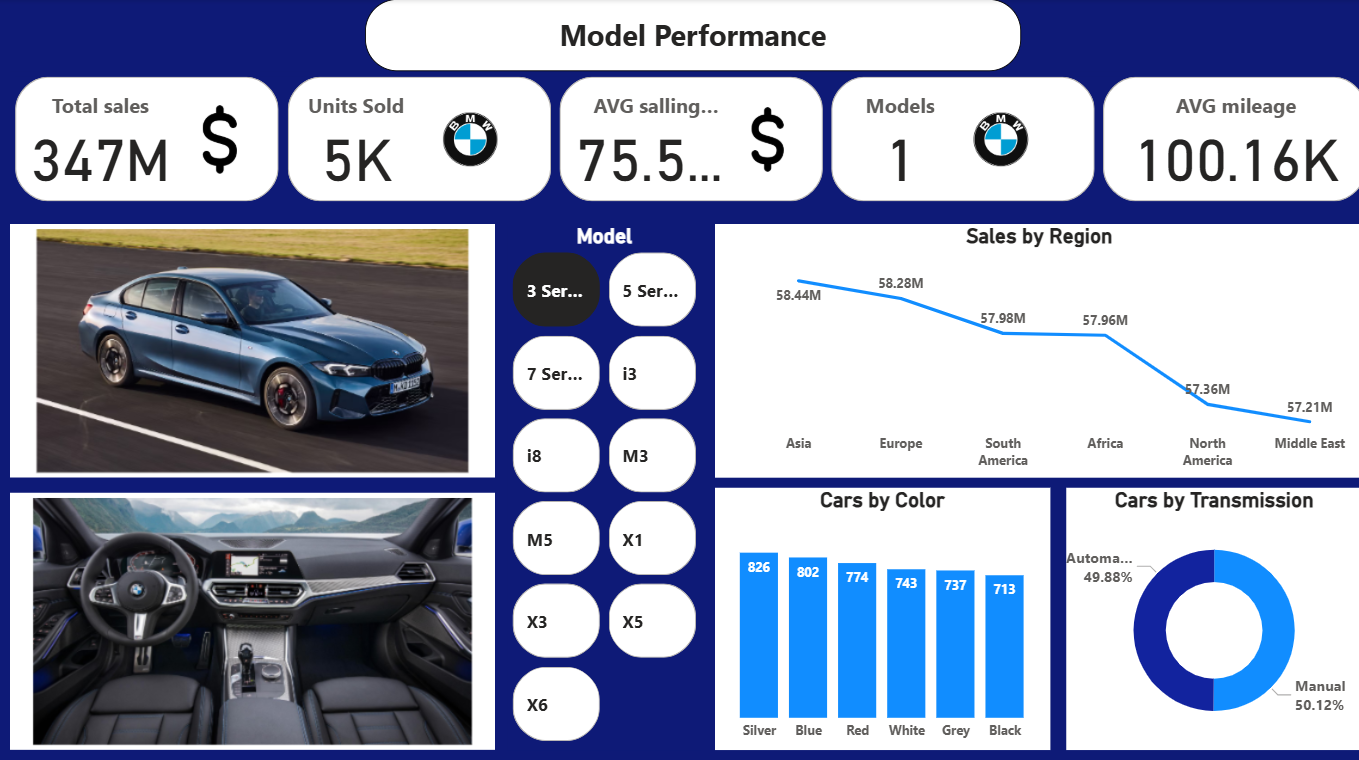

Layout of this report page (visuals, bound fields, positions):
{"tool":"powerbi","page":{"name":"Model Performance ","canvas":[1280,720],"ordinal":1},"visuals":[{"type":"imageDB603108E3FF4EBFB8047F5653368E8C","fields":{"imageUrl":["Table1.URL"],"imageTitle":["Table1.Model "]},"box":[9.3,209.3,451.2,236],"z":0},{"type":"advancedSlicerVisual","fields":{"Values":["Table1.Model "]},"box":[472.1,209.3,180.2,489.5],"z":1000},{"type":"imageDB603108E3FF4EBFB8047F5653368E8C","fields":{"imageTitle":["Table1.Model "],"imageUrl":["Table1.URL 2"]},"box":[9.3,459.3,451.2,239.5],"z":2000},{"type":"cardVisual","fields":{"Data":["BMW sales data (2010-2024) (1).Total sales","BMW sales data (2010-2024) (1).Total Cars","BMW sales data (2010-2024) (1).AVG salling price","BMW sales data (2010-2024) (1).Models","BMW sales data (2010-2024) (1).AVG mileage"]},"box":[9.1,67.4,1270.9,126.7],"z":3000},{"type":"textbox","box":[339.5,0,610.5,67.4],"z":4000},{"type":"lineChart","title":"Sales by Region","fields":{"Y":["BMW sales data (2010-2024) (1).Total sales"],"Category":["BMW sales data (2010-2024) (1).Region"]},"box":[665.1,209.3,603.5,236],"z":5000},{"type":"columnChart","title":"Cars by Color","fields":{"Y":["BMW sales data (2010-2024) (1).Total Cars"],"Category":["BMW sales data (2010-2024) (1).Color"]},"box":[665.1,454.7,311.6,244.2],"z":6000},{"type":"donutChart","title":"Cars by Transmission","fields":{"Y":["BMW sales data (2010-2024) (1).Total Cars"],"Category":["BMW sales data (2010-2024) (1).Transmission"]},"box":[991.9,454.7,275.6,244.2],"z":7000}]}

Visuals, with their boxes in screenshot pixels (x1, y1, x2, y2), scaled from the page's 1280x720 canvas onto the 1359x760 screenshot:
imageDB603108E3FF4EBFB8047F5653368E8C - Table1.URL x Table1.Model : (10,221,489,470)
advancedSlicerVisual - Table1.Model : (501,221,693,738)
imageDB603108E3FF4EBFB8047F5653368E8C - Table1.Model  x Table1.URL 2: (10,485,489,738)
cardVisual - BMW sales data (2010-2024) (1).Total sales x BMW sales data (2010-2024) (1).Total Cars: (10,71,1358,205)
textbox: (360,0,1009,71)
"Sales by Region" lineChart: (706,221,1347,470)
"Cars by Color" columnChart: (706,480,1037,738)
"Cars by Transmission" donutChart: (1053,480,1346,738)
